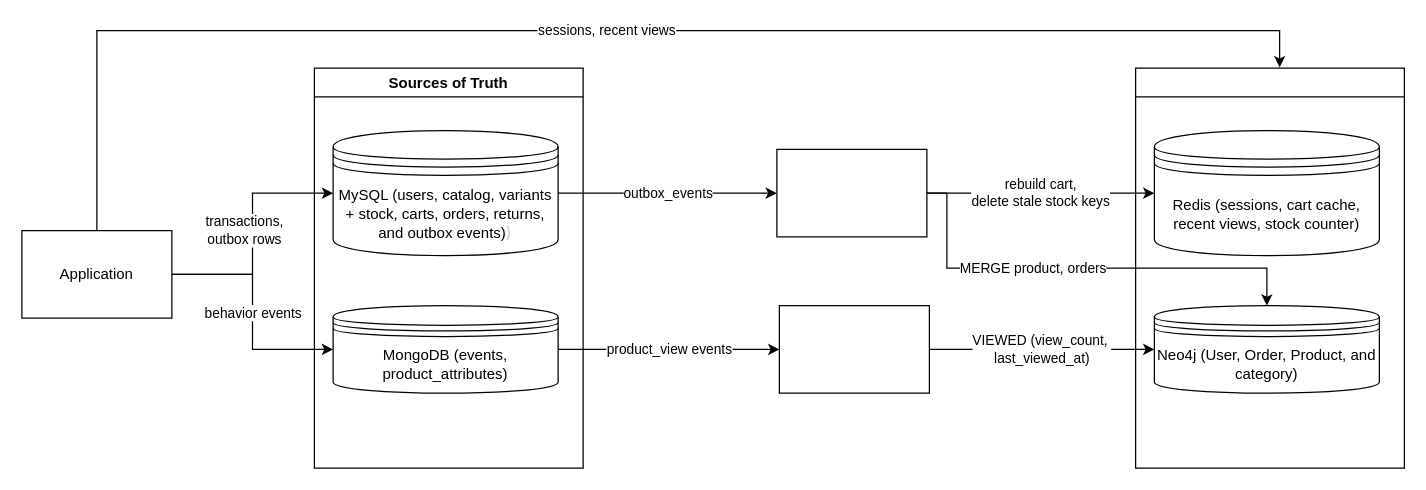
Some shapes in this 1426 by 490 pixel diagram are drawn without their labels. Each missing label, with the centre of its shape:
"Derived Stores" belongs at (x=1269, y=267).
"sync.py (outbox worker) polls every second" belongs at (x=851, y=192).
"sync.py (views periodic batch)" belongs at (x=853, y=348).
